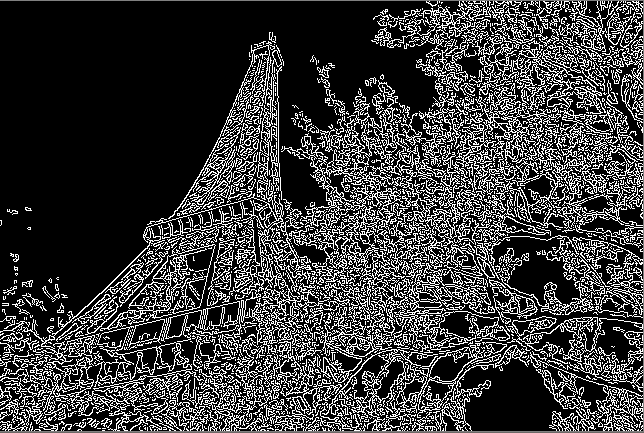eiffel tower: (67, 26, 311, 370)
